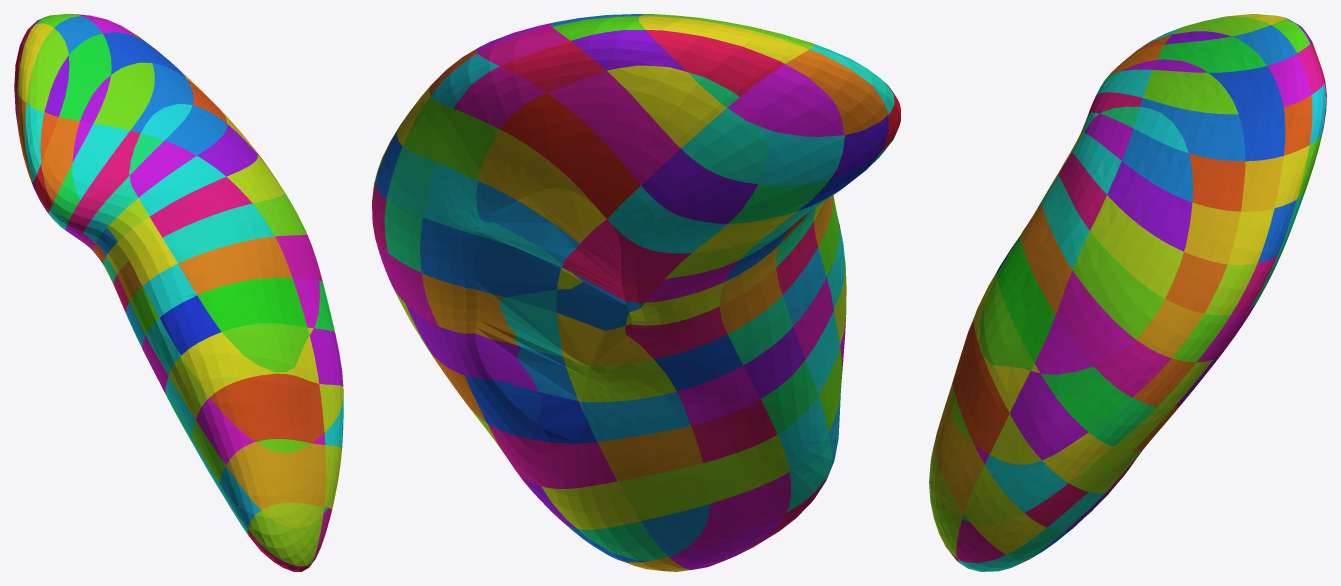
The model's file is kidney-male-left-vu-v1.0.glb.
3 renders of one model, left to right at view 1: azimuth 30°, elevation 25°; view 2: azimuth 150°, elevation 25°; view 3: azimuth 270°, elevation 25°, orthographic. The views are drawn at different scales.
Parts seen in each view (by area): view 1: world; view 2: world; view 3: world.
Boxes of the visible parts, x1,y1,x2,y2 form: world: (14, 14, 343, 571); world: (372, 14, 900, 571); world: (929, 14, 1326, 571).
Bounding box in the file's own units: 0.055 × 0.0857 × 0.0631.
